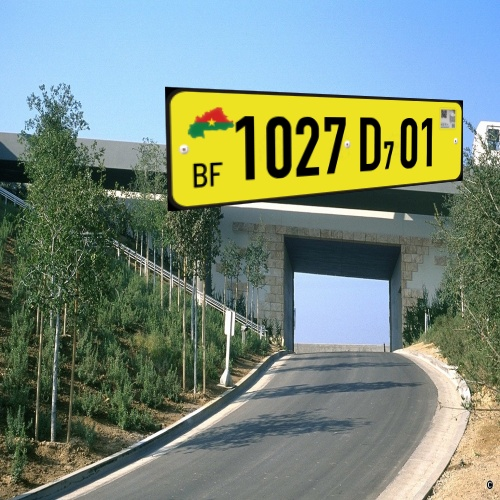plate: (154, 65, 477, 215)
